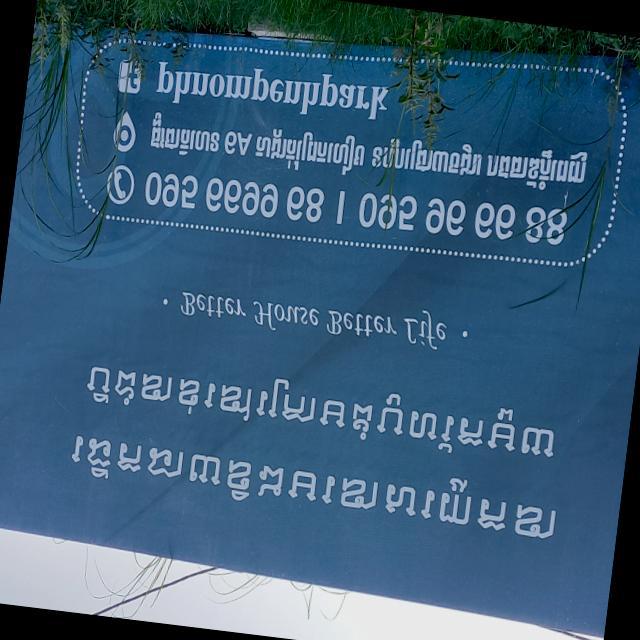161: (149, 107, 238, 162)
2: (252, 122, 592, 195)
459: (138, 164, 582, 251)
Yolov11kh: (65, 421, 574, 568), (77, 344, 567, 475)
